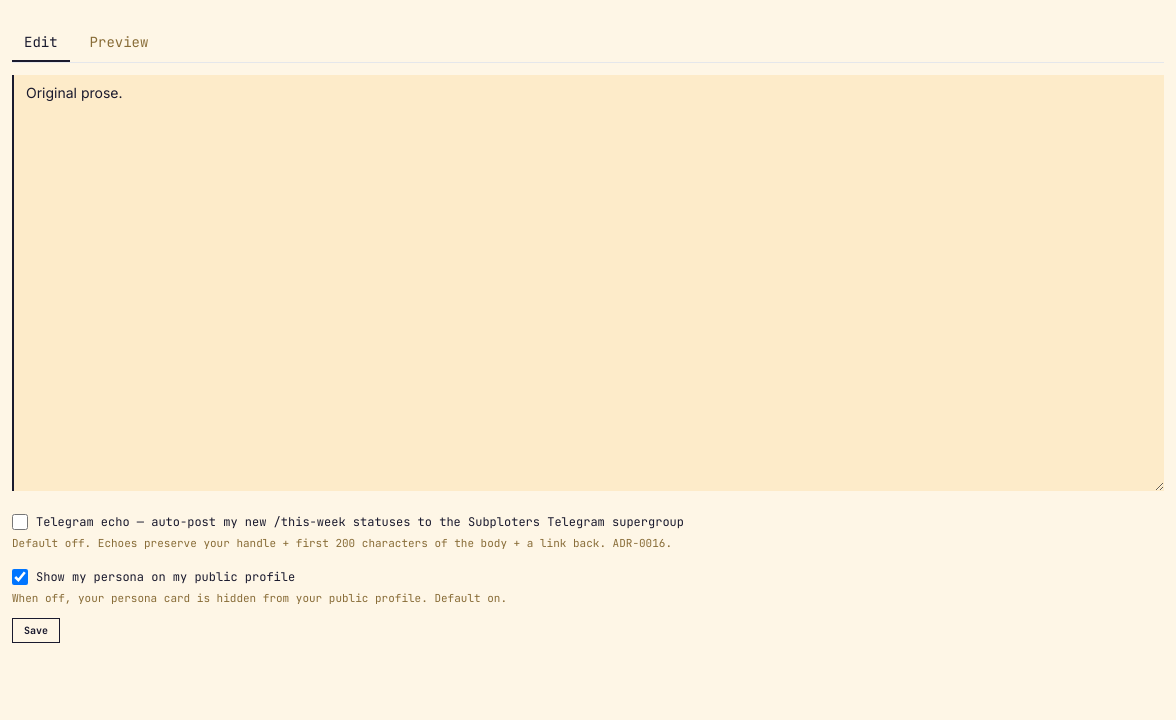
Test: ProfileEditor › H14: profile prose XSS-safe at render › Preview tab renders via the /api/preview-markdown endpoint (no client-side HTML insertion outside SafeHtml)
Click the tab "Preview": x=119, y=43 78,24 -> 160,62
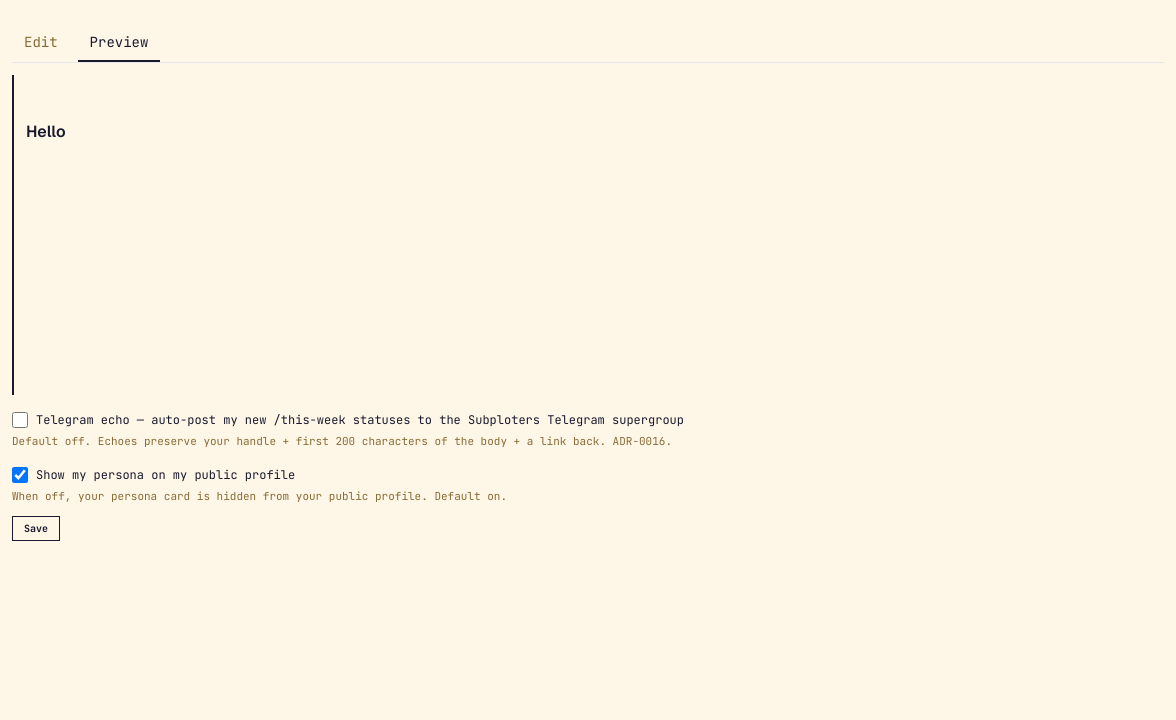
Check: the element with test id "safehtml" is shown, box 26,121 -> 66,142
